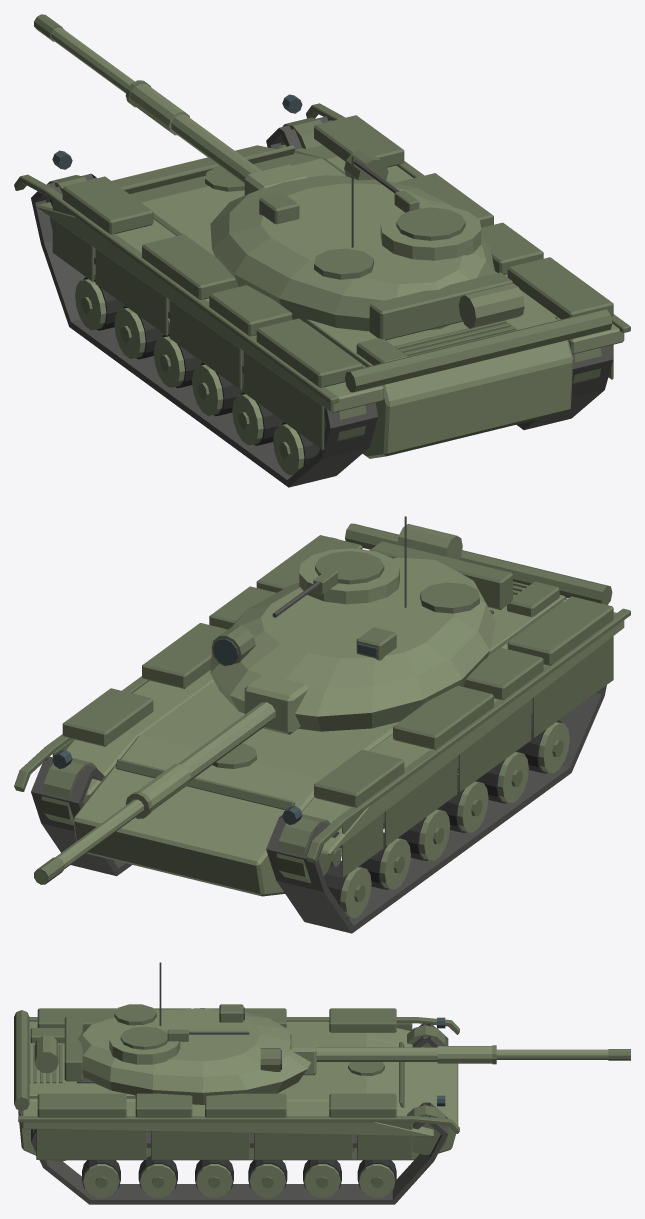
The picture shows the model from 3 angles, top to bottom: view 1: azimuth 30°, elevation 25°; view 2: azimuth 150°, elevation 25°; view 3: azimuth 270°, elevation 25°; orthographic projection. The views are drawn at different scales.
Visible parts, largest first — view 1: Turret_Body, Hull_Body, Track_L, Unditching_Beam, Sponson_L, Turret_Rear_Box, Fender_Bin_L_3, Fender_Bin_R_3, Skirt_L_3, Fender_Bin_L_1, Fender_L, Fender_Bin_L_0 (+31 smaller); view 2: Hull_Body, Turret_Body, Track_L, Sponson_L, Fender_Bin_L_3, Fender_Bin_L_1, Skirt_L_3, Fender_L, Sponson_R, Unditching_Beam, Fender_Bin_R_0, Fender_Bin_L_0 (+33 smaller); view 3: Turret_Body, Hull_Body, Track_R, Sponson_R, Skirt_R_3, Fender_R, Skirt_R_2, Skirt_R_1, Fender_Bin_R_3, Fender_Bin_R_1, Gun_Sleeve_Rear, Fender_Bin_L_0 (+32 smaller).
Part boxes in pixels (left/top/right/bottom): Turret_Body: left=210, top=175, right=495, bottom=331; Hull_Body: left=112, top=145, right=573, bottom=458; Track_L: left=31, top=173, right=378, bottom=487; Unditching_Beam: left=345, top=309, right=612, bottom=392; Sponson_L: left=36, top=202, right=383, bottom=412; Turret_Rear_Box: left=369, top=272, right=512, bottom=340; Fender_Bin_L_3: left=256, top=318, right=362, bottom=387; Fender_Bin_R_3: left=507, top=257, right=613, bottom=319; Skirt_L_3: left=243, top=351, right=324, bottom=450; Fender_Bin_L_1: left=142, top=234, right=237, bottom=299; Fender_L: left=14, top=174, right=339, bottom=404; Fender_Bin_L_0: left=62, top=176, right=153, bottom=234; Hull_Body: left=73, top=602, right=562, bottom=896; Turret_Body: left=210, top=557, right=495, bottom=731; Track_L: left=266, top=685, right=606, bottom=933; Sponson_L: left=301, top=612, right=624, bottom=855; Fender_Bin_L_3: left=507, top=596, right=613, bottom=665; Fender_Bin_L_1: left=393, top=685, right=493, bottom=749; Skirt_L_3: left=532, top=636, right=613, bottom=737; Fender_L: left=306, top=608, right=630, bottom=863; Sponson_R: left=66, top=670, right=213, bottom=796; Unditching_Beam: left=345, top=523, right=612, bottom=604; Fender_Bin_R_0: left=62, top=688, right=153, bottom=746; Fender_Bin_L_0: left=314, top=749, right=404, bottom=807; Turret_Body: left=77, top=1008, right=310, bottom=1104; Hull_Body: left=18, top=1037, right=458, bottom=1160; Track_R: left=31, top=1102, right=448, bottom=1204; Sponson_R: left=21, top=1102, right=433, bottom=1136; Skirt_R_3: left=36, top=1129, right=146, bottom=1159; Fender_R: left=18, top=1116, right=459, bottom=1133; Skirt_R_2: left=151, top=1131, right=249, bottom=1159; Skirt_R_1: left=254, top=1133, right=352, bottom=1159; Fender_Bin_R_3: left=37, top=1093, right=126, bottom=1117; Fender_Bin_R_1: left=205, top=1093, right=286, bottom=1117; Gun_Sleeve_Rear: left=316, top=1047, right=437, bottom=1061; Fender_Bin_L_0: left=329, top=1008, right=396, bottom=1032.
Bounding box in the file's own units: 3.4 × 2.87 × 8.68.
